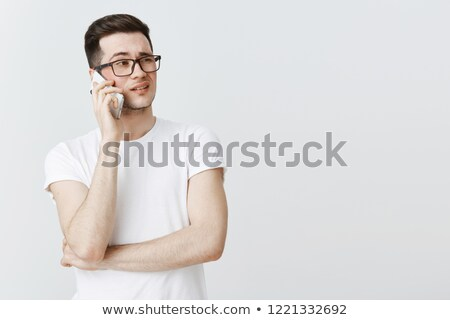phone: (91, 66, 124, 121)
talk: (84, 45, 160, 129)
